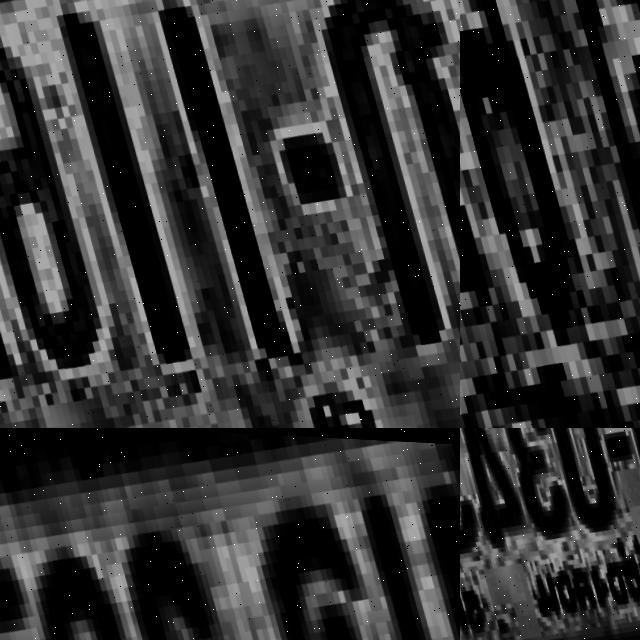license-plate: (0, 0, 460, 428), (0, 428, 460, 640), (460, 0, 640, 428), (460, 428, 640, 640)
